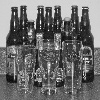beer: (6, 8, 23, 83)
